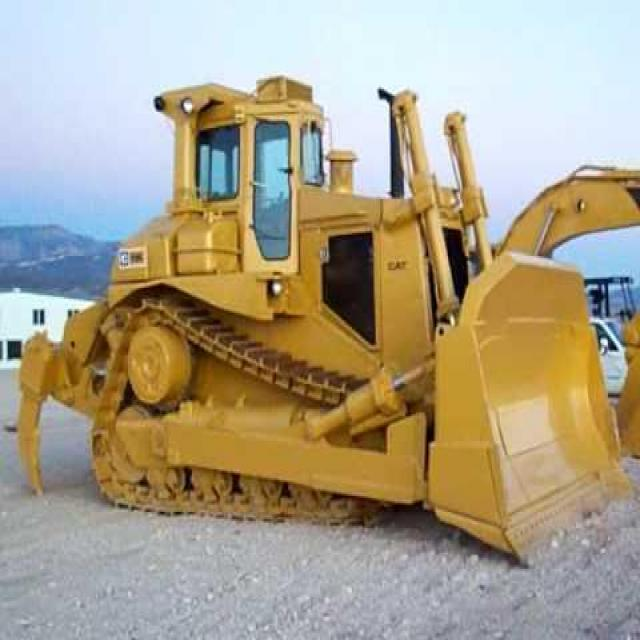Bulldozer: (19, 52, 638, 583)
